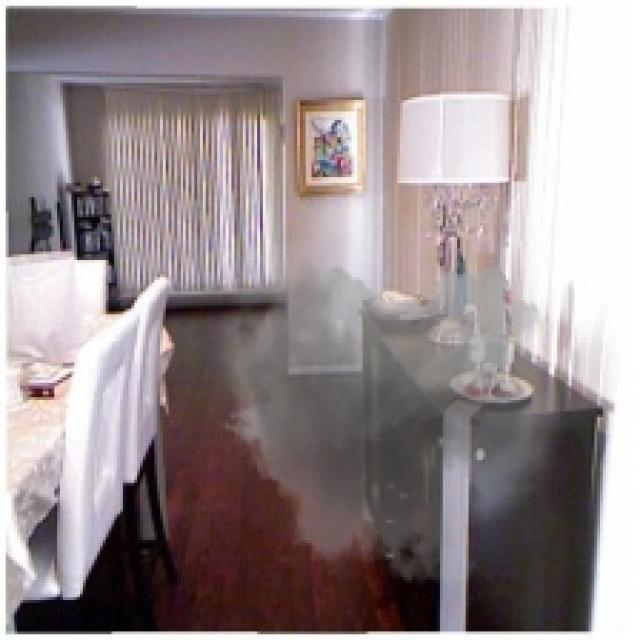Smoke: (211, 180, 563, 606)
